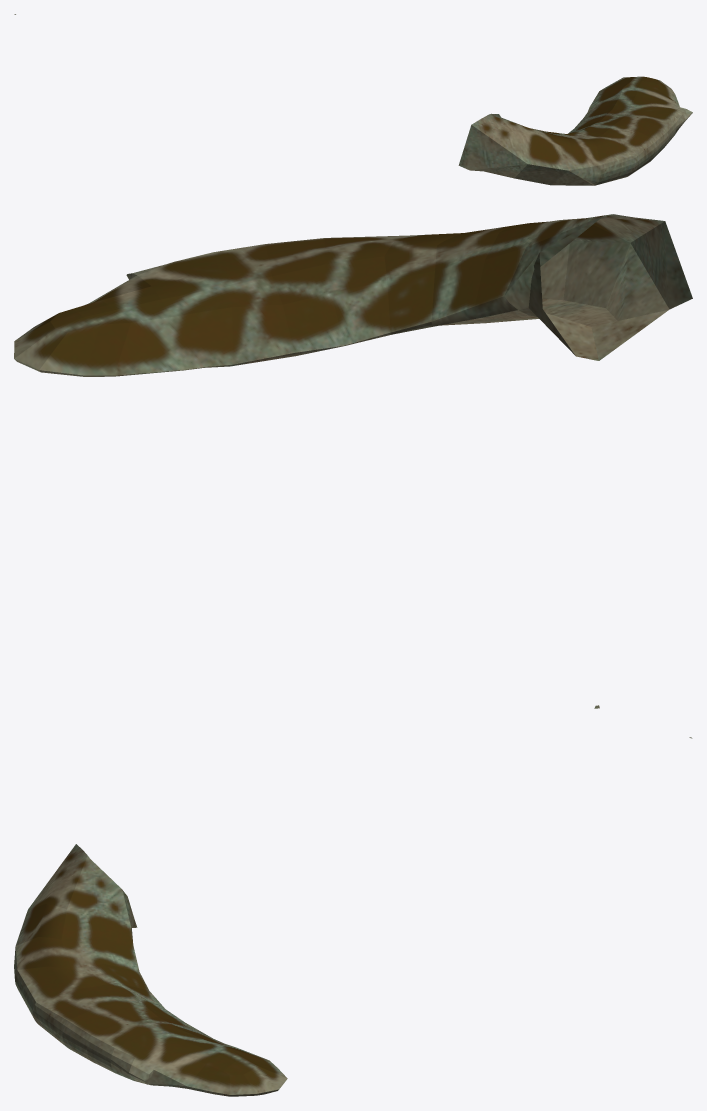
Rendered from tortuga1patadelanteraizquierda.obj.
The picture shows the model from 3 angles, top to bottom: view 1: azimuth 30°, elevation 25°; view 2: azimuth 150°, elevation 25°; view 3: azimuth 270°, elevation 25°; orthographic projection. The views are drawn at different scales.
Visible parts, largest first — view 1: Object_4.1386_Turtle_Color; view 2: Object_4.1386_Turtle_Color; view 3: Object_4.1386_Turtle_Color.
Part boxes in pixels (x1,y1,x2,y2): Object_4.1386_Turtle_Color: [458, 76, 692, 185]; Object_4.1386_Turtle_Color: [14, 214, 692, 376]; Object_4.1386_Turtle_Color: [14, 844, 287, 1096].
Size of the model in its own units: 143 by 24.12 by 142.
Materials: 1 (1 with a texture image).
